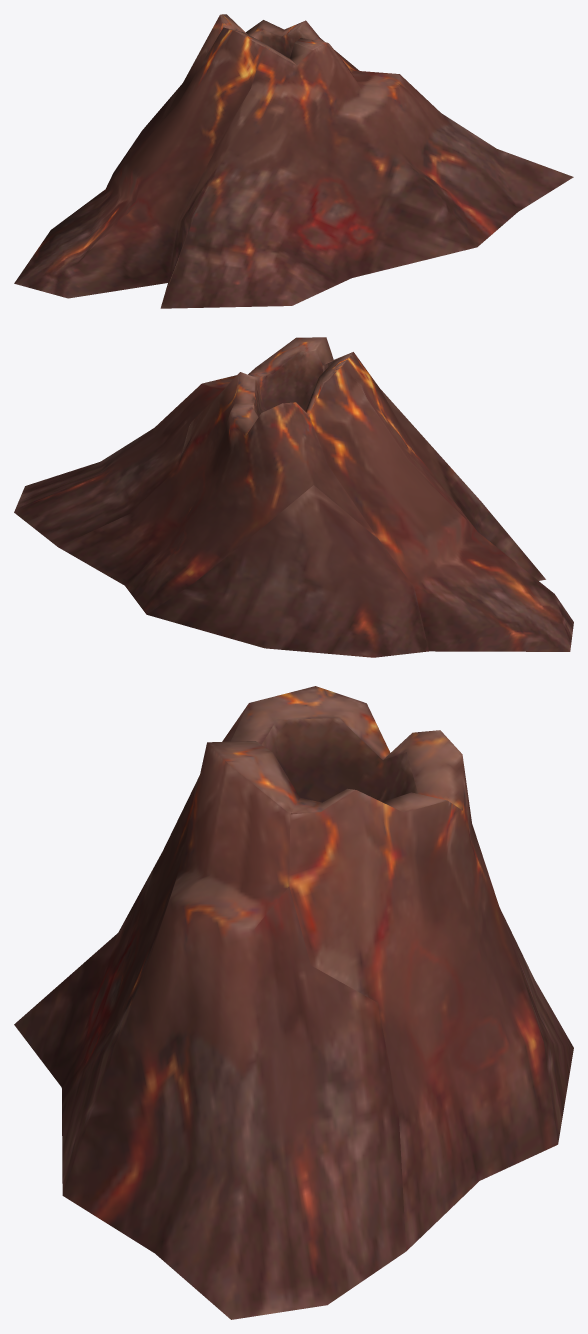
File: huoshan_6.FBX
3 renders of one model, top to bottom at view 1: azimuth 30°, elevation 25°; view 2: azimuth 150°, elevation 25°; view 3: azimuth 270°, elevation 25°, orthographic. The views are drawn at different scales.
Parts seen in each view (by area): view 1: huoshan_6; view 2: huoshan_6; view 3: huoshan_6.
Part boxes in pixels (x1,y1,x2,y2): huoshan_6: (14, 14, 573, 308); huoshan_6: (14, 337, 573, 657); huoshan_6: (14, 686, 573, 1319).
Size of the model in its own units: 2298 by 853 by 1195.
